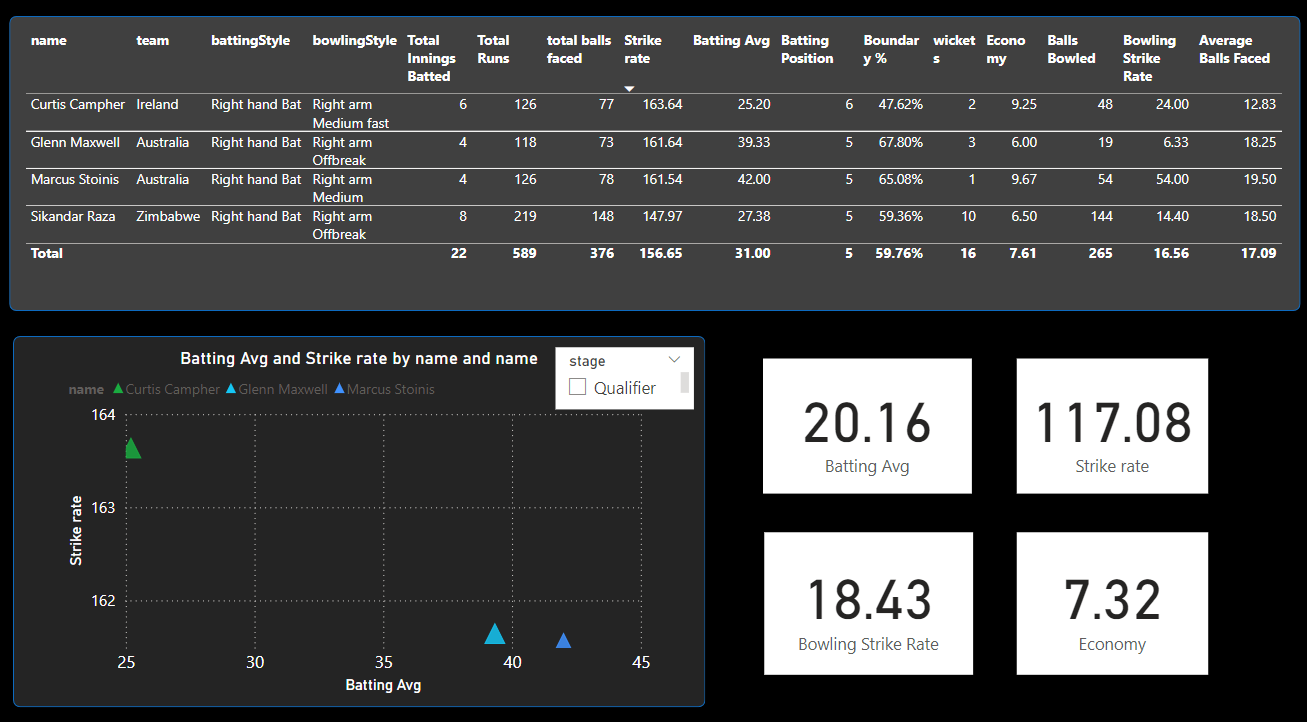

What the dashboard file says about the page in this screenshot:
{"tool":"powerbi","page":{"name":"All Rounders / Lower Middle Order","canvas":[1280,720],"ordinal":3},"visuals":[{"type":"slicer","fields":{"Values":["dim_match_summary.stage"]},"box":[1094.2,12.1,155.6,82],"z":0},{"type":"card","fields":{"Values":["Key_Measures.Economy"]},"box":[947.1,557.4,200.3,137.5],"z":1000},{"type":"card","fields":{"Values":["Key_Measures.Bowling Strike Rate"]},"box":[726.3,557.4,185.8,137.5],"z":2000},{"type":"card","fields":{"Values":["Key_Measures.Strike rate"]},"box":[947.1,364.3,200.3,153.2],"z":3000},{"type":"card","fields":{"Values":["Key_Measures.Bat Avg"]},"box":[726.3,364.3,185.8,153.2],"z":4000},{"type":"shape","box":[26.5,94.1,1224.5,218.4],"z":5000},{"type":"tableEx","fields":{"Values":["dim_player.name","dim_player.team","dim_player.Batting Style","dim_player.Bowling Style","Key_Measures.Total Matches","Key_Measures.Total Runs","Key_Measures.Total Innings Bowled","Key_Measures.Strike rate","Key_Measures.Bat Avg","Key_Measures.wickets","Key_Measures.Economy","Key_Measures.Balls Bowled"]},"box":[42.2,107.4,1188.3,182.2],"z":6000},{"type":"shape","box":[26.5,325.7,622.5,384.9],"z":7000},{"type":"scatterChart","fields":{"Category":["dim_player.name"],"X":["Key_Measures.Bowling Strike Rate"],"Series":["dim_player.name"],"Y":["Key_Measures.Economy"],"Size":["Key_Measures.Total Runs"]},"box":[42.2,345,585.1,349.9],"z":8000}]}

Visuals, with their boxes in screenshot pixels (x1, y1, x2, y2), scaled from the page's 1280x720 canvas onto the 1307x722 screenshot:
slicer - dim_match_summary.stage: select_region(1117, 12, 1276, 94)
card - Key_Measures.Economy: select_region(967, 559, 1172, 697)
card - Key_Measures.Bowling Strike Rate: select_region(742, 559, 931, 697)
card - Key_Measures.Strike rate: select_region(967, 365, 1172, 519)
card - Key_Measures.Bat Avg: select_region(742, 365, 931, 519)
shape: select_region(27, 94, 1277, 313)
tableEx - dim_player.name x dim_player.team: select_region(43, 108, 1256, 290)
shape: select_region(27, 327, 663, 713)
scatterChart - dim_player.name x Key_Measures.Bowling Strike Rate: select_region(43, 346, 641, 697)
